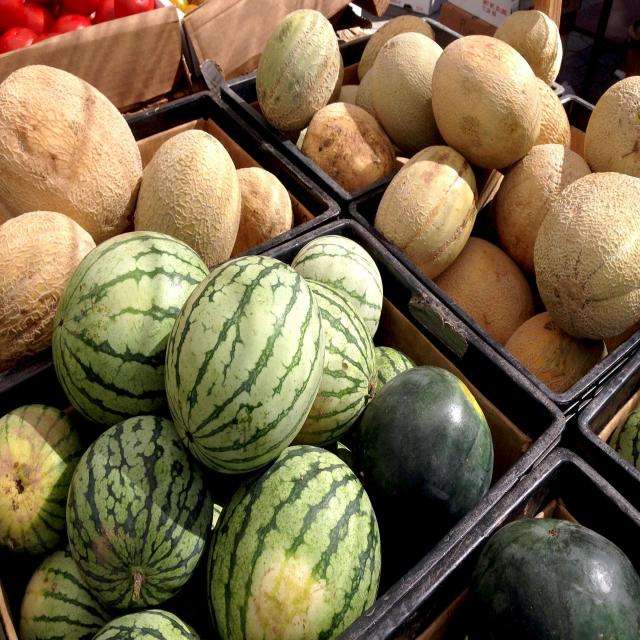watermelon: (200, 444, 382, 640), (162, 250, 324, 469), (47, 229, 210, 421), (58, 410, 209, 610), (348, 358, 490, 539), (474, 509, 640, 640), (275, 270, 377, 439), (0, 403, 83, 560), (288, 229, 382, 335), (25, 548, 126, 640), (85, 605, 208, 640)
